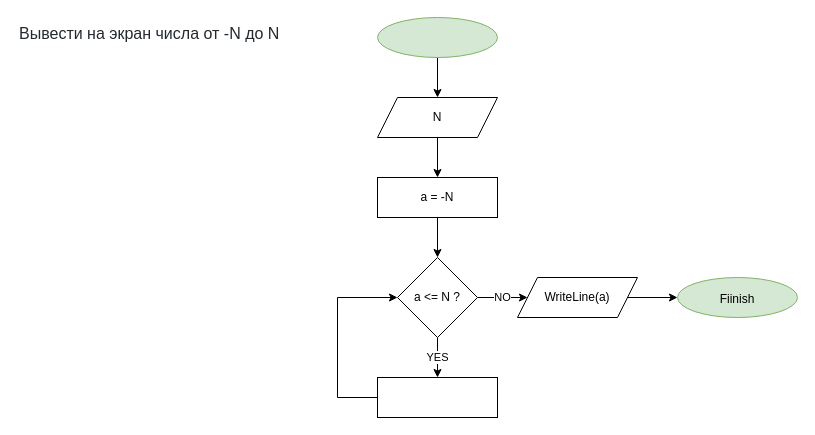
The diagram is 815 pixels wide and 435 high, and some of its shapes have lost their labels. Each missing label, with the centre of its shape:
"a++" goes at point 437,397.
"Start" goes at point 437,37.
